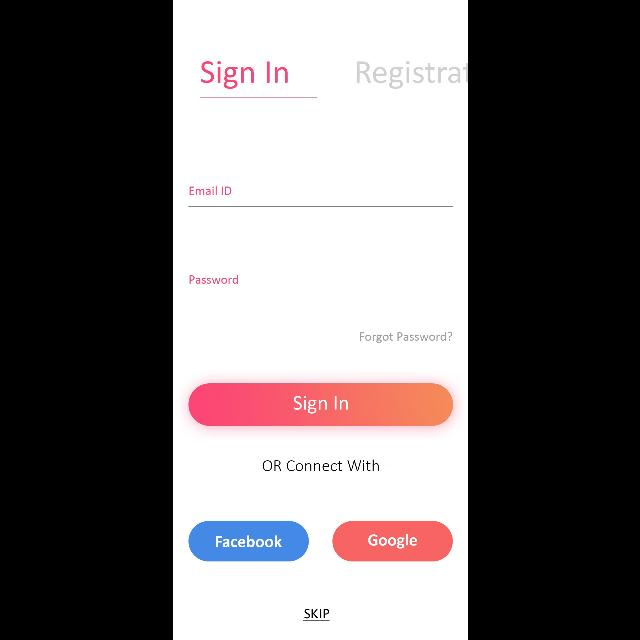input: (188, 186, 452, 206), (188, 276, 452, 294)
text: (357, 61, 468, 89), (200, 61, 286, 89), (262, 459, 378, 471), (360, 332, 452, 342), (188, 276, 238, 284), (302, 608, 330, 622), (189, 187, 231, 196)
textbutton: (188, 384, 452, 426), (188, 521, 308, 561), (332, 521, 452, 561)
